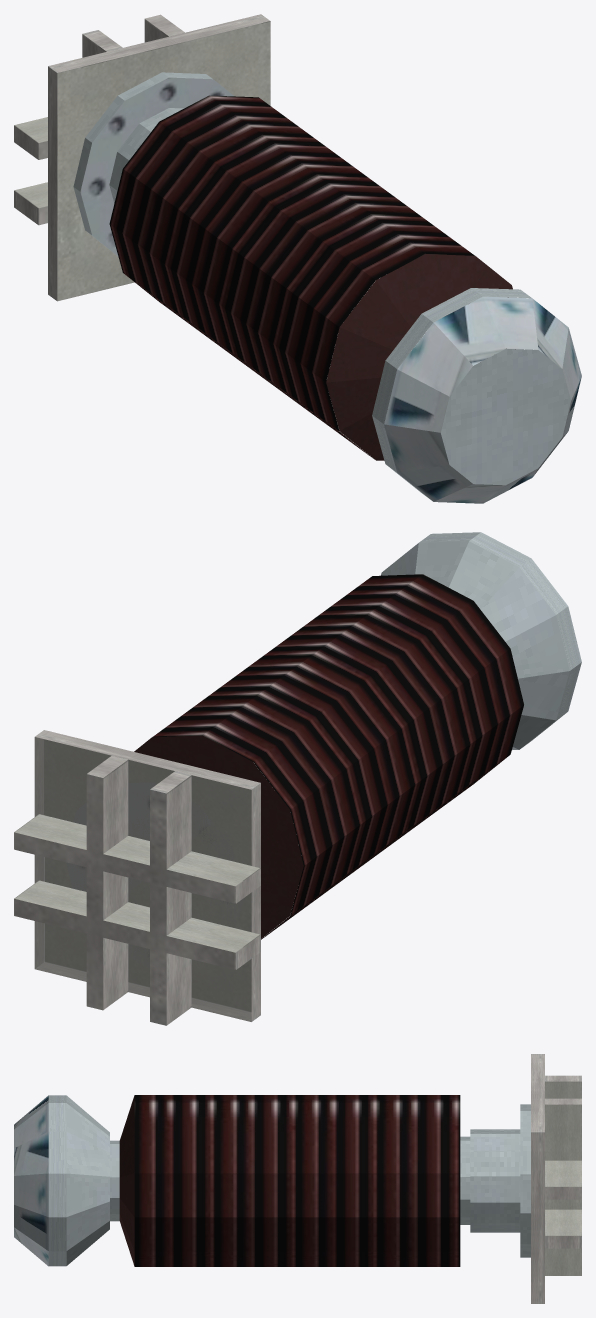
File: jylz007-geode.glb
The picture shows the model from 3 angles, top to bottom: view 1: azimuth 30°, elevation 25°; view 2: azimuth 150°, elevation 25°; view 3: azimuth 270°, elevation 25°; orthographic projection. The views are drawn at different scales.
Parts seen in each view (by area): view 1: Node; view 2: Node; view 3: Node.
Part boxes in pixels (box(x1,y1,x2,y2)): Node: box(14, 14, 581, 503); Node: box(14, 532, 581, 1025); Node: box(14, 1054, 581, 1303).
Size of the model in its own units: 0.2367 by 0.2321 by 0.6963.
Materials: 5 (5 with a texture image).
